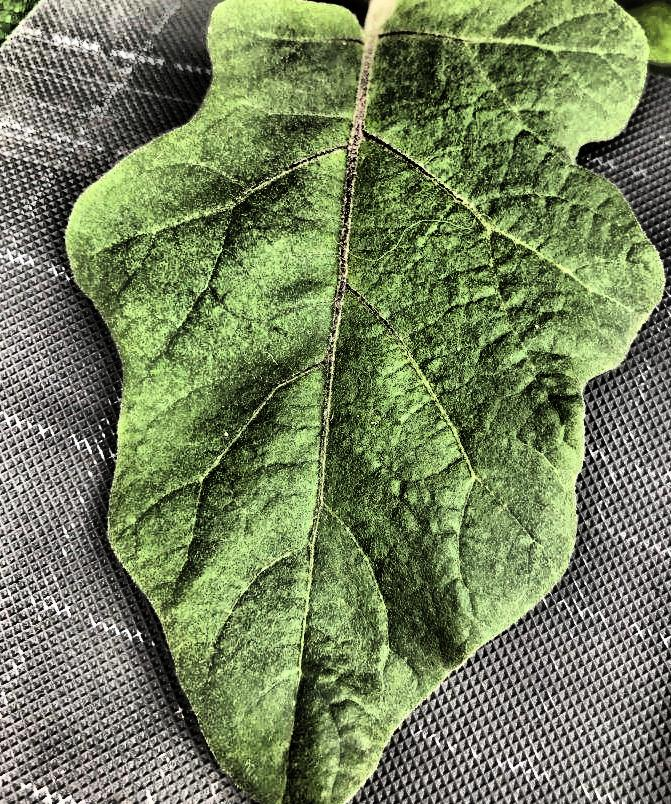HEALTHY: (10, 0, 671, 571)
